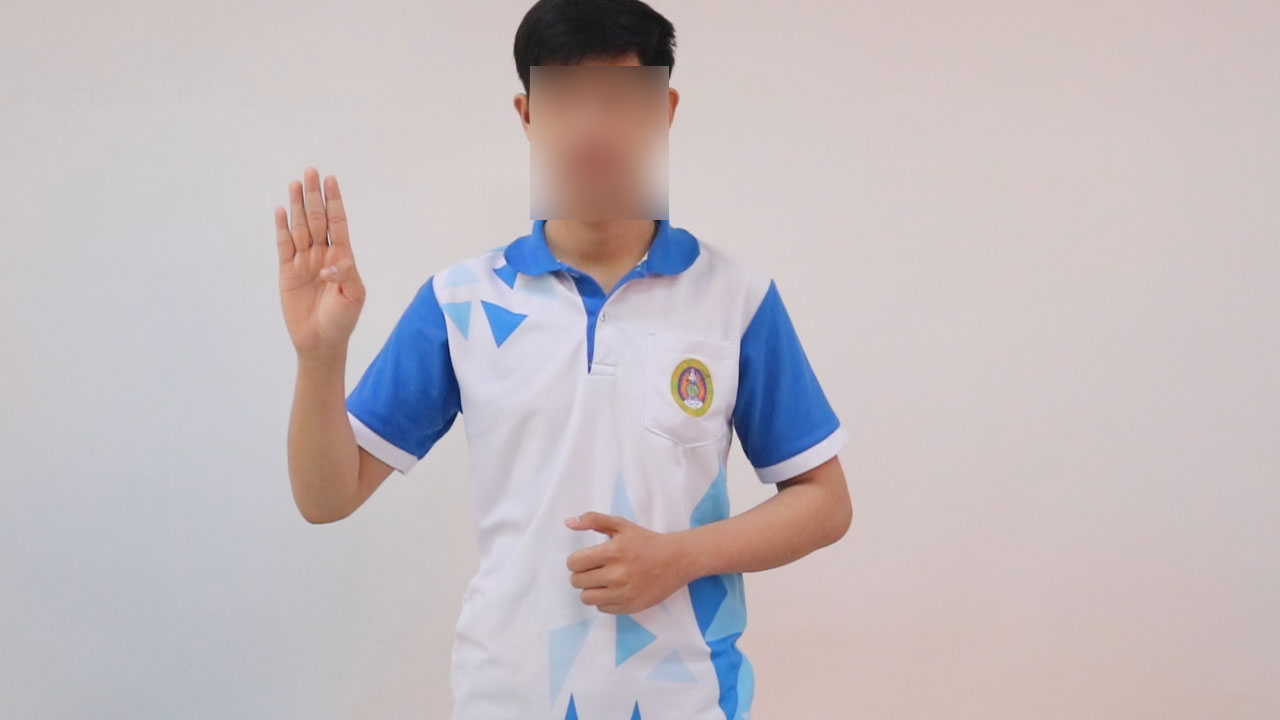bor: (255, 151, 380, 384)
